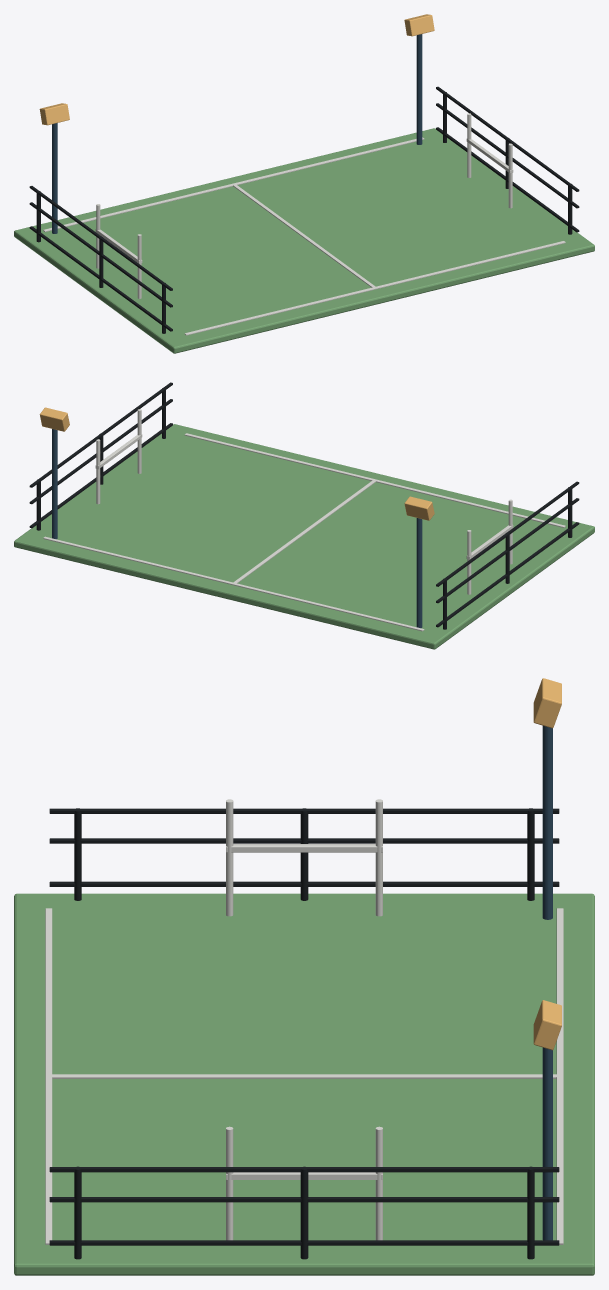
The model's file is SPORT_FOOTBALL_3x2_001.glb.
The picture shows the model from 3 angles, top to bottom: view 1: azimuth 30°, elevation 25°; view 2: azimuth 150°, elevation 25°; view 3: azimuth 270°, elevation 25°; orthographic projection. The views are drawn at different scales.
Visible parts, largest first — view 1: SPORT_FOOTBALL_3x2_001_Visual; view 2: SPORT_FOOTBALL_3x2_001_Visual; view 3: SPORT_FOOTBALL_3x2_001_Visual.
Boxes of the visible parts, box(x1,y1,x2,y2) form: SPORT_FOOTBALL_3x2_001_Visual: box(14, 14, 594, 353); SPORT_FOOTBALL_3x2_001_Visual: box(14, 382, 594, 649); SPORT_FOOTBALL_3x2_001_Visual: box(14, 678, 594, 1275).
Size of what is drawn, in the model's own units: 5.88 by 1.78 by 3.88.
